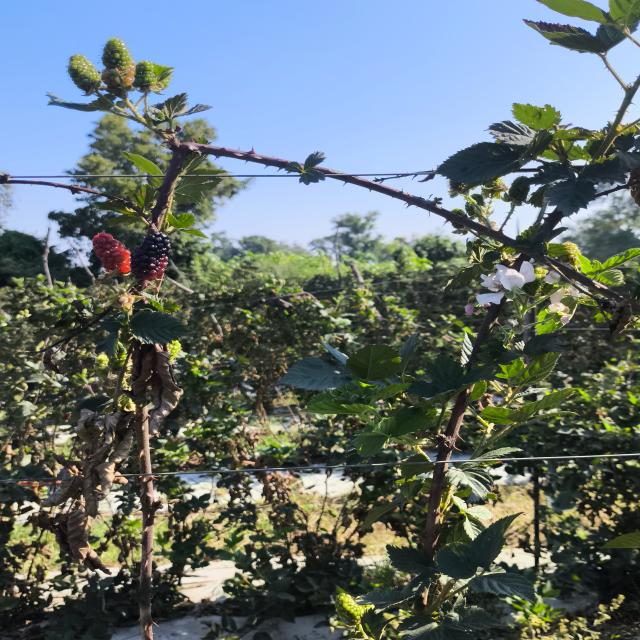flor: (497, 263, 535, 291)
marron: (131, 231, 170, 280)
naranja: (92, 233, 130, 274)
